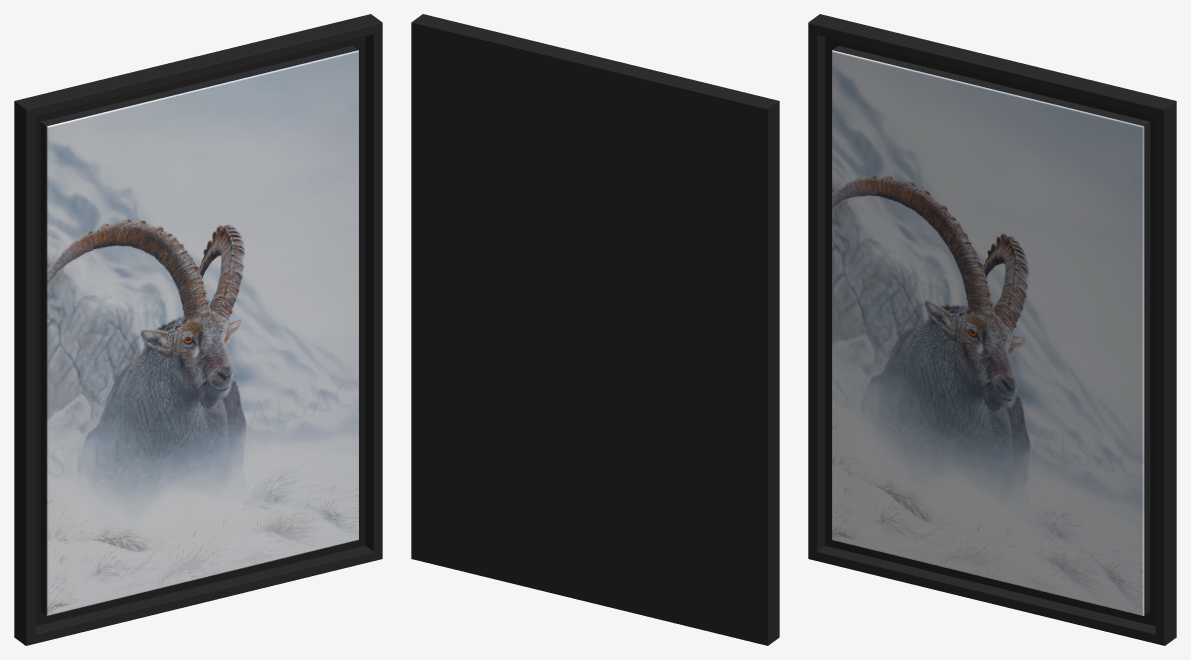
Rendered from tableau-peinture-ibex-classique-8846cd98.glb.
The picture shows the model from 3 angles, left to right: view 1: azimuth 30°, elevation 25°; view 2: azimuth 150°, elevation 25°; view 3: azimuth 330°, elevation 25°; orthographic projection.
Visible parts, largest first — view 1: Painting; view 2: Painting; view 3: Painting.
Part boxes in pixels (x1,y1,x2,y2): Painting: (14, 14, 382, 645); Painting: (411, 14, 779, 645); Painting: (808, 14, 1176, 645).
Bounding box in the file's own units: 0.686 × 0.986 × 0.04.
Materials: 4 (2 with a texture image).
